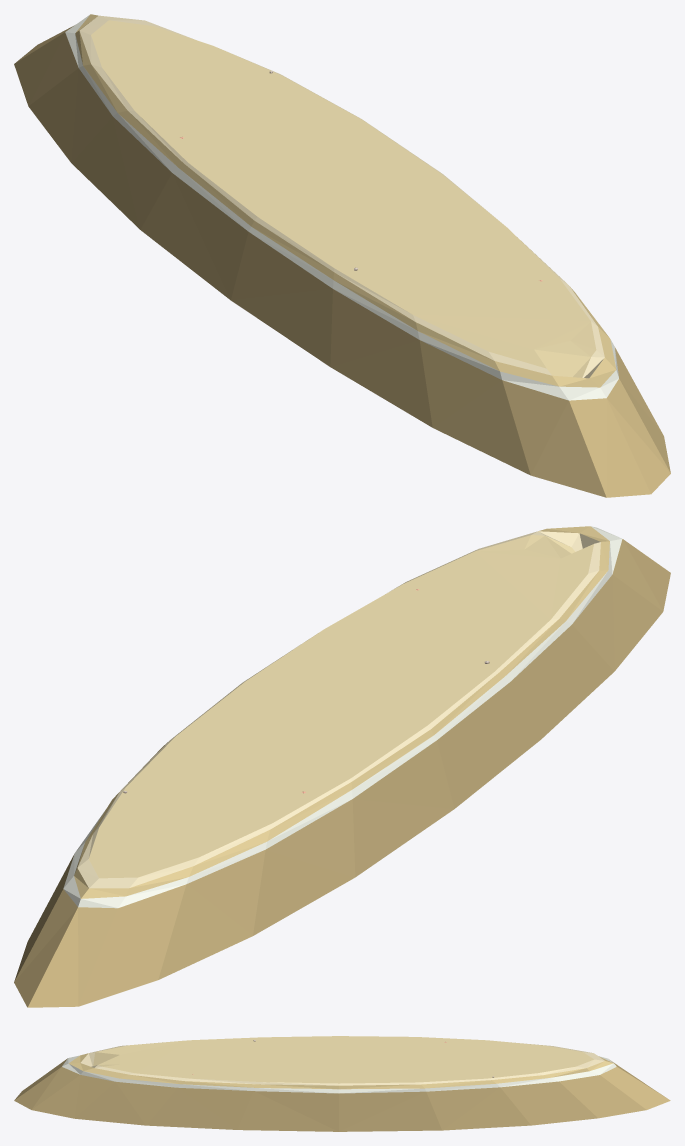
The model's file is sandbar.glb.
The picture shows the model from 3 angles, top to bottom: view 1: azimuth 30°, elevation 25°; view 2: azimuth 150°, elevation 25°; view 3: azimuth 270°, elevation 25°; orthographic projection. The views are drawn at different scales.
Parts seen in each view (by area): view 1: sandbar; view 2: sandbar; view 3: sandbar.
Boxes of the visible parts, left/top/right/bottom form: sandbar: left=14, top=14, right=670, bottom=497; sandbar: left=14, top=526, right=670, bottom=1007; sandbar: left=14, top=1036, right=670, bottom=1131.
Size of the model in its own units: 52 by 16.67 by 234.
